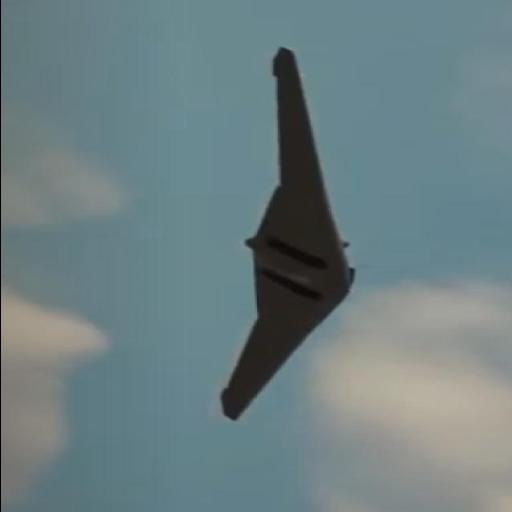uav: (196, 42, 370, 424)
